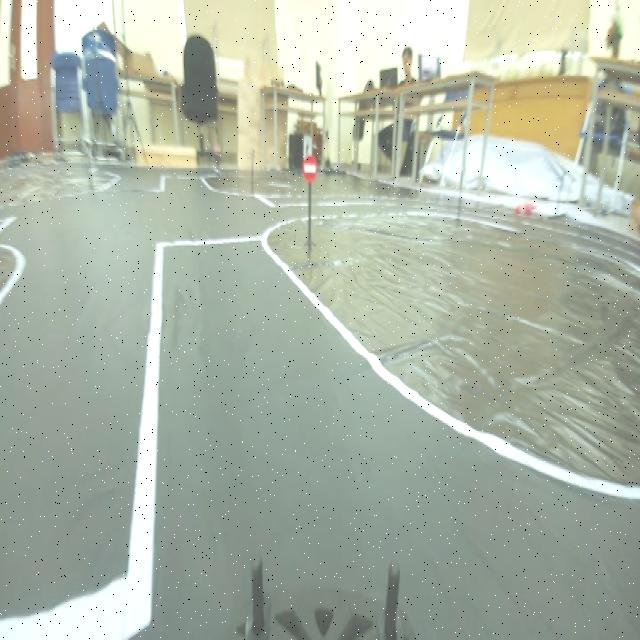no_entry: (298, 150, 323, 187)
